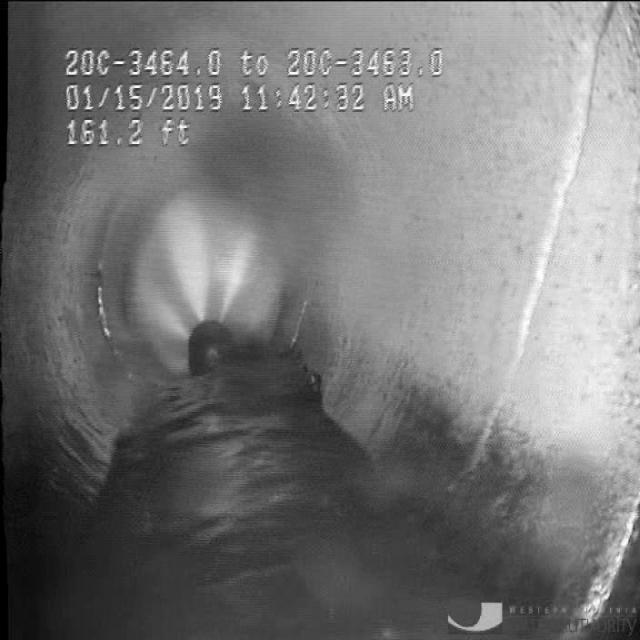Crack: (476, 43, 620, 507)
